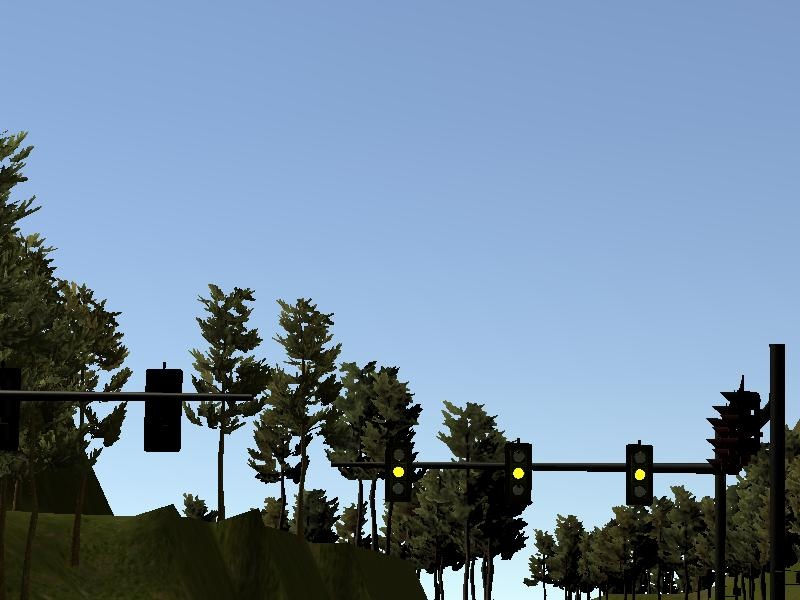yellow: (500, 437, 536, 508), (622, 439, 656, 510), (381, 438, 411, 506)
